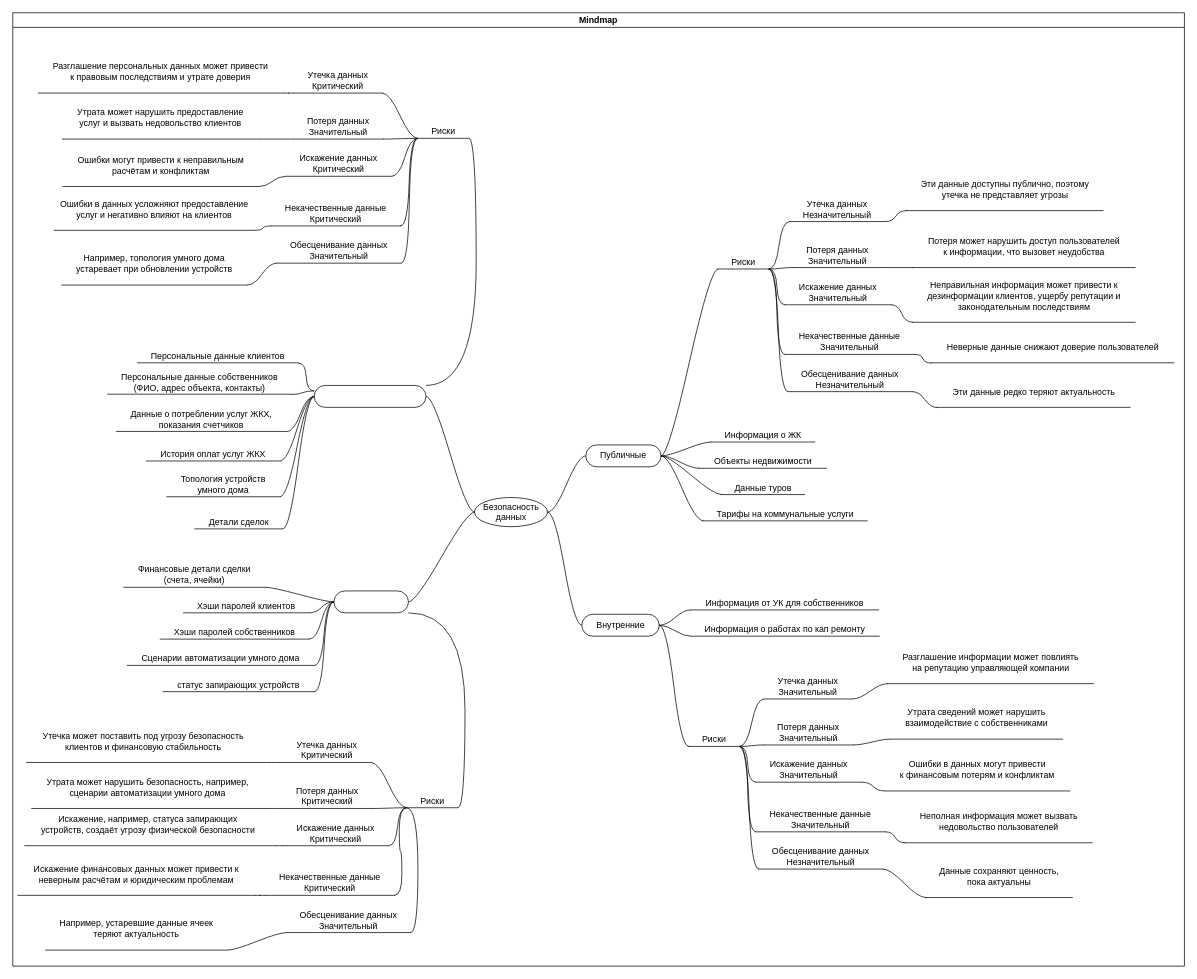
The diagram is 1197 pixels wide and 979 high, and some of its shapes have lost their labels. Each missing label, with the centre of its shape:
Конфиденциальные: the point at 370,396
Секретные: the point at 370,601
